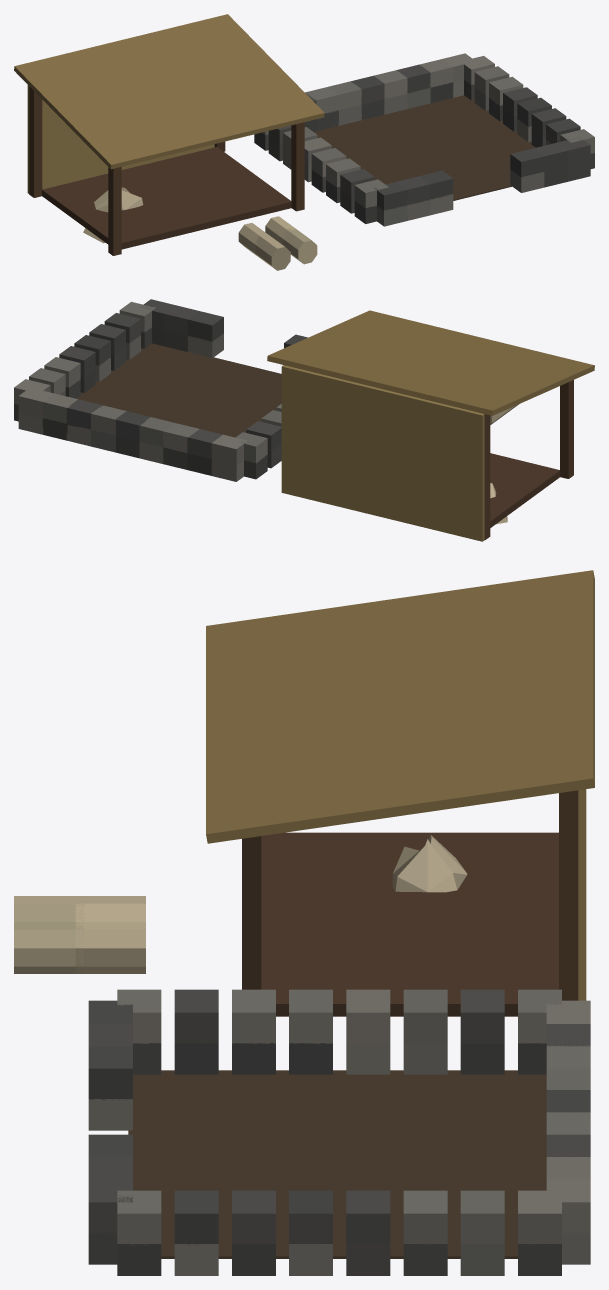
File: walk_tidebound_fold.glb
3 renders of one model, top to bottom at view 1: azimuth 30°, elevation 25°; view 2: azimuth 150°, elevation 25°; view 3: azimuth 270°, elevation 25°, orthographic. The views are drawn at different scales.
Visible parts, largest first — view 1: walk_tidebound_fold, walk_tidebound_fold_roof; view 2: walk_tidebound_fold, walk_tidebound_fold_roof; view 3: walk_tidebound_fold, walk_tidebound_fold_roof.
Boxes of the visible parts, bbox=[...] form: walk_tidebound_fold: bbox=[27, 53, 594, 270]; walk_tidebound_fold_roof: bbox=[14, 14, 324, 169]; walk_tidebound_fold: bbox=[14, 299, 573, 541]; walk_tidebound_fold_roof: bbox=[267, 310, 594, 415]; walk_tidebound_fold: bbox=[14, 789, 590, 1275]; walk_tidebound_fold_roof: bbox=[206, 570, 594, 843].
Size of what is drawn, in the model's own units: 12.11 by 3.72 by 6.6.
1 material, 1 textured.
